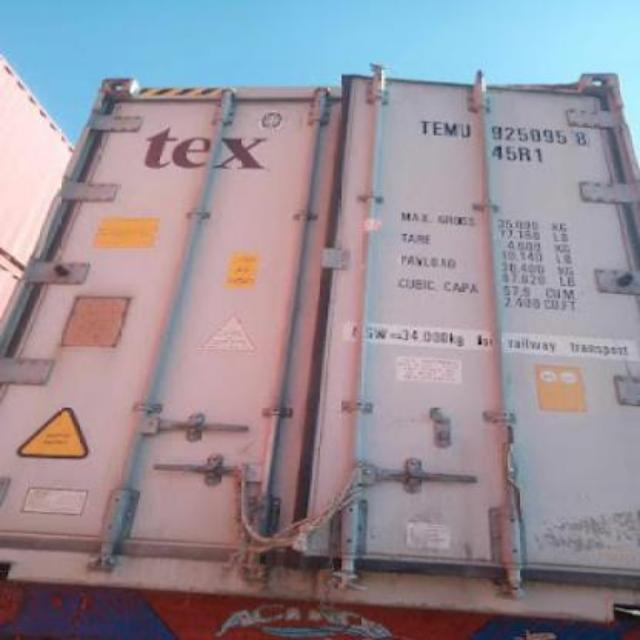0: (530, 124, 542, 144)
2: (502, 123, 516, 141)
5: (516, 124, 530, 140), (556, 127, 568, 145)
8: (574, 132, 590, 144)
9: (491, 123, 504, 141), (542, 128, 554, 142)
E: (434, 120, 444, 136)
M: (444, 120, 460, 138)
T: (418, 119, 432, 135)
U: (460, 120, 472, 138)
